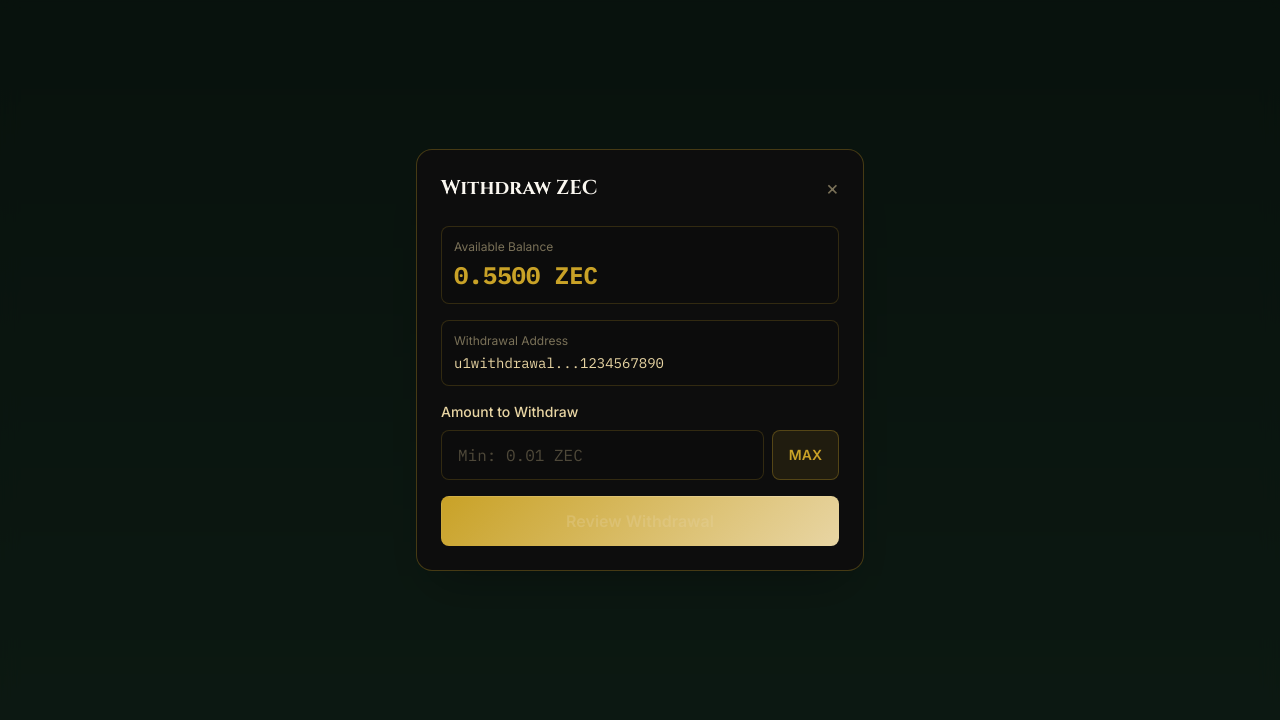
it: WithdrawalModal › allows exact-balance withdrawal after fee without precision rejection
The width and height of the screenshot is (1280, 720).
Type "0.5499" into the number field with placeholder "Min: 0.01 ZEC".
click(602, 455); type("0.5499")  # box [441, 430, 764, 480]
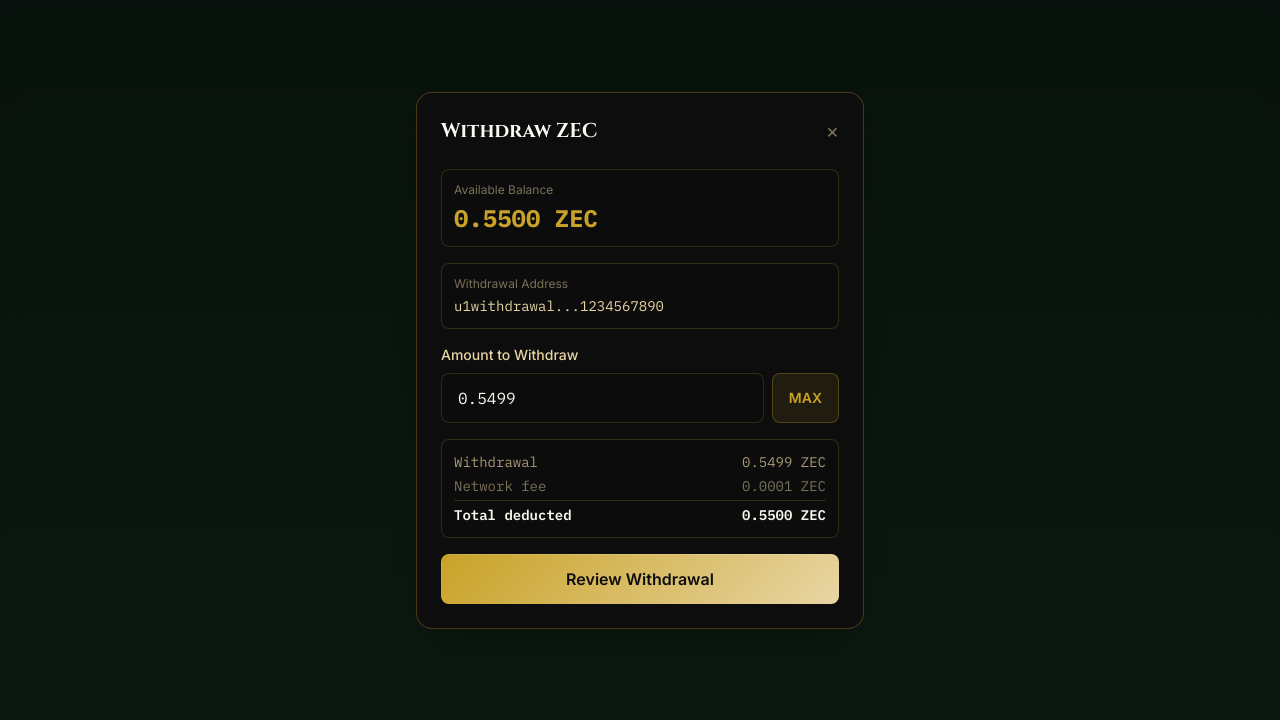
expect the button "Review Withdrawal" is enabled: met, box [441, 554, 839, 604]
